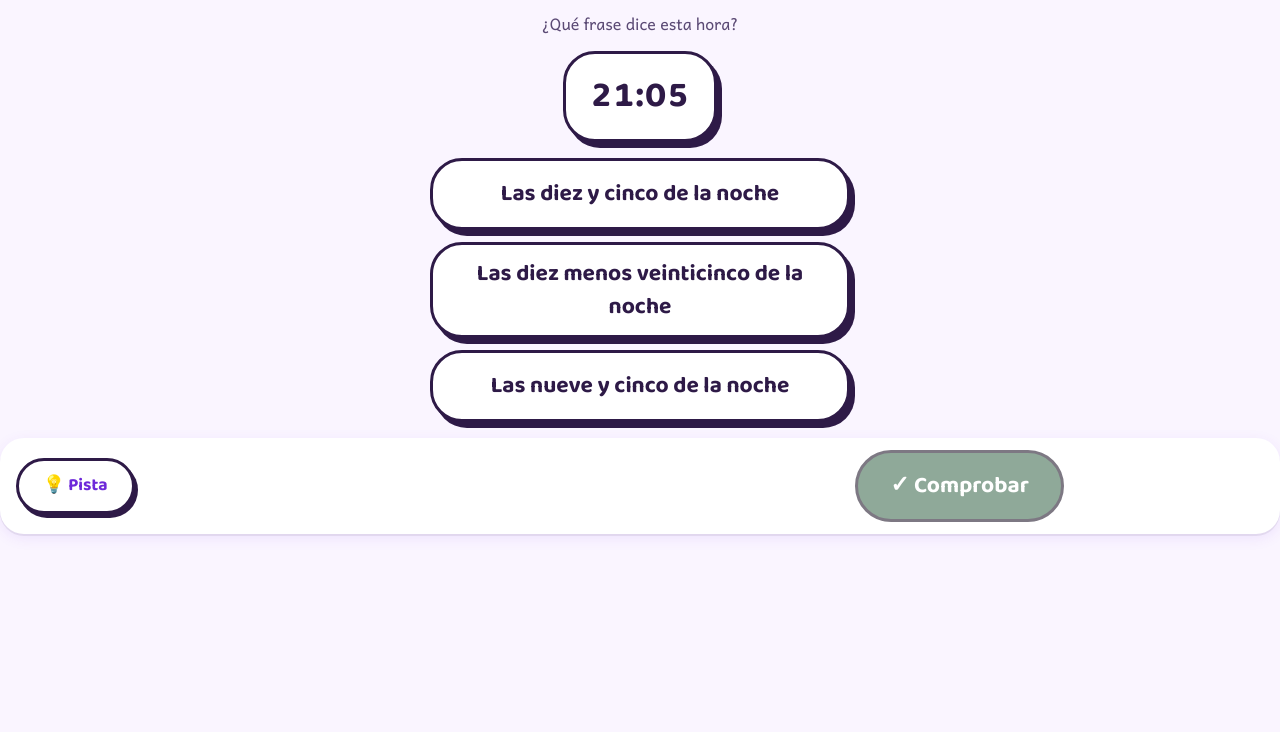
Test: TimeConvertView › shows the 24 h time and checks the phrase with the period of the day
Expected: the text "21:05" is shown, [590, 70, 690, 123]
Click the button "Las nueve y cinco de la noche" at (640, 386), box [430, 350, 850, 422]
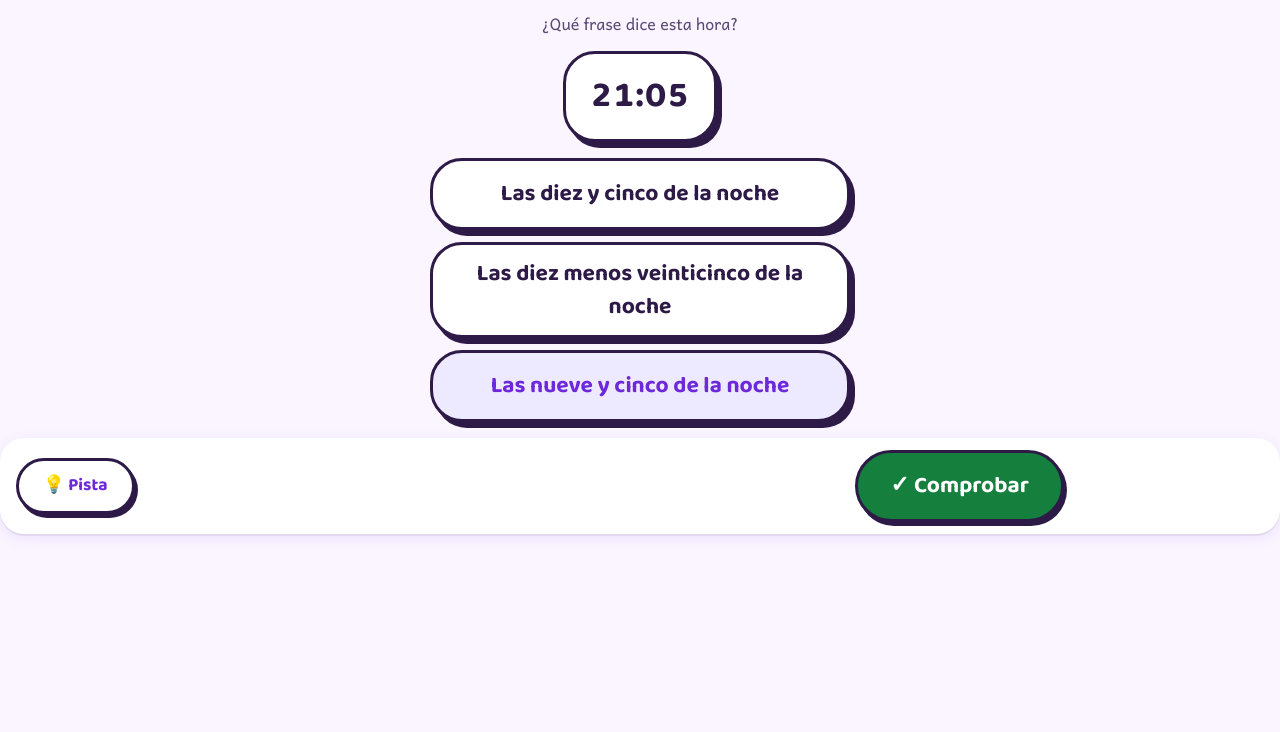
Click the button "✓ Comprobar" at (960, 486), box [855, 450, 1064, 522]
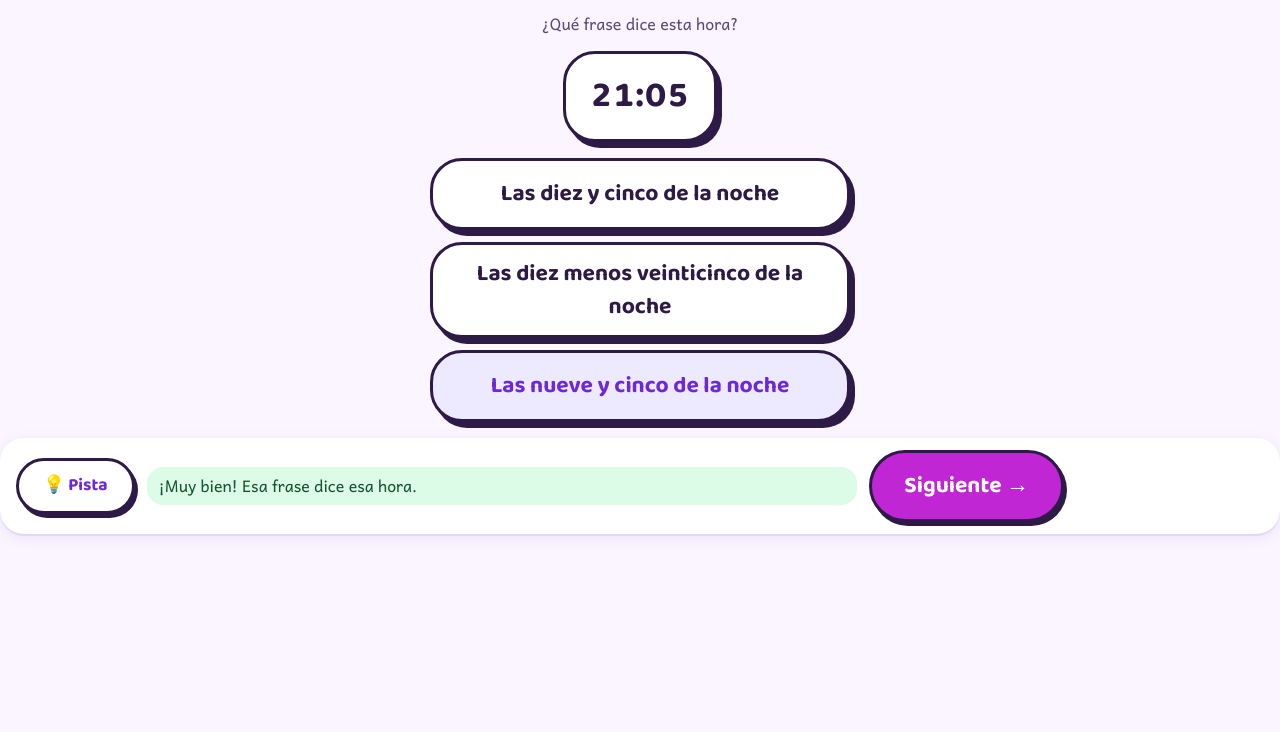
Expected: the text "¡Muy bien! Esa frase dice esa hora." is shown, [147, 467, 857, 505]
